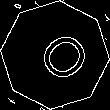O_SW: (22, 22, 88, 88)
